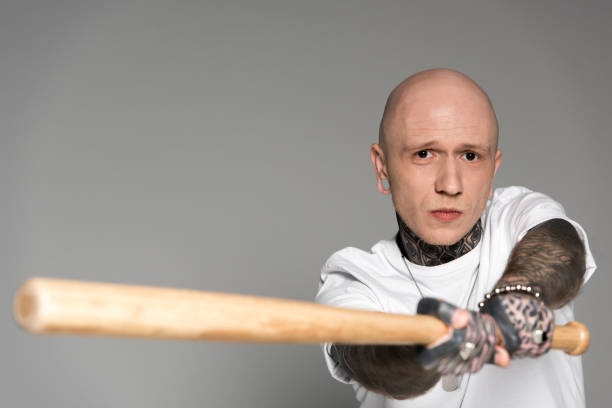bita: (17, 278, 588, 360)
